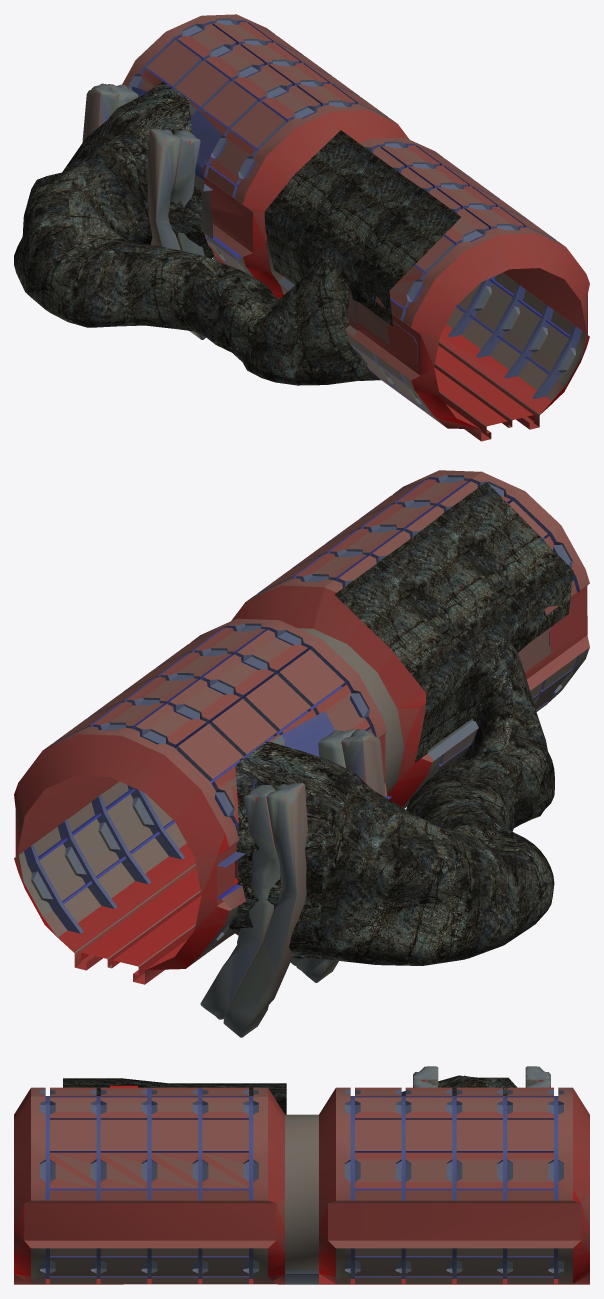
The model's file is traintunnel_damage_passage01.dae.
The picture shows the model from 3 angles, top to bottom: view 1: azimuth 30°, elevation 25°; view 2: azimuth 150°, elevation 25°; view 3: azimuth 270°, elevation 25°; orthographic projection. The views are drawn at different scales.
Parts seen in each view (by area): view 1: tunnel_short_hole01, rock, concrete; view 2: tunnel_short_hole01, rock, concrete; view 3: tunnel_short_hole01, rock, concrete.
Boxes of the visible parts, left/top/right/bottom form: tunnel_short_hole01: left=122, top=14, right=589, bottom=441; rock: left=14, top=81, right=460, bottom=385; concrete: left=82, top=83, right=205, bottom=339; tunnel_short_hole01: left=14, top=470, right=589, bottom=984; rock: left=229, top=482, right=573, bottom=965; concrete: left=200, top=729, right=385, bottom=1037; tunnel_short_hole01: left=14, top=1085, right=589, bottom=1284; rock: left=63, top=1075, right=517, bottom=1114; concrete: left=413, top=1066, right=550, bottom=1087.
Size of the model in its own units: 10.59 by 7.36 by 17.
